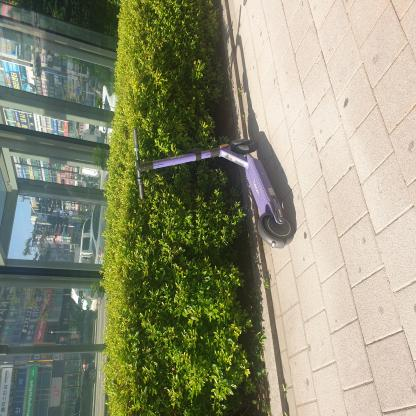kickboard: (118, 168, 228, 402)
